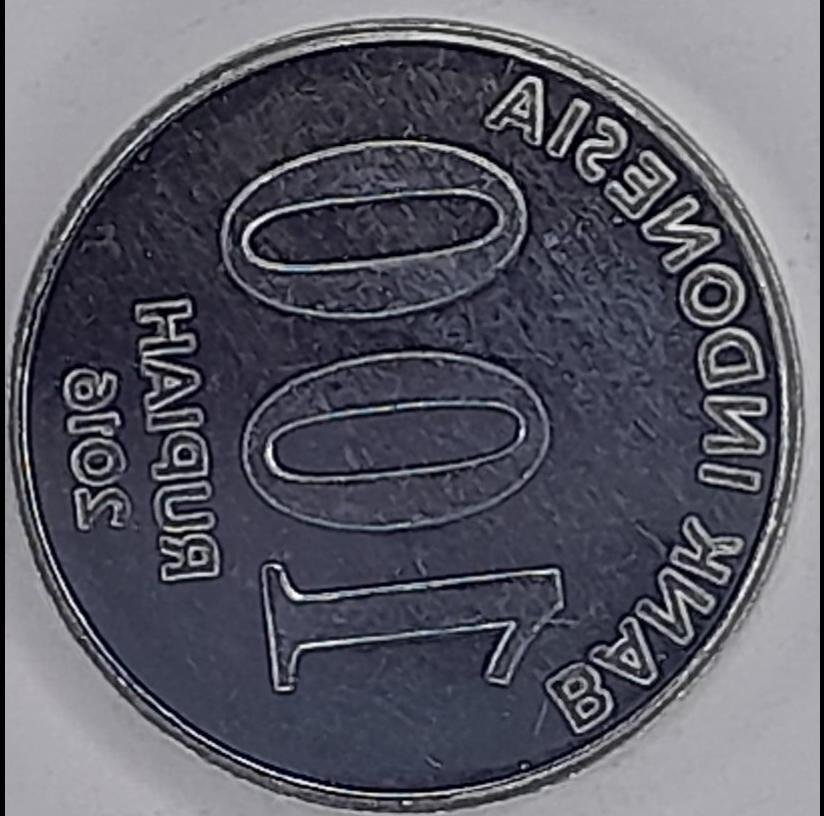coin_100_e2016: (5, 11, 808, 814)
